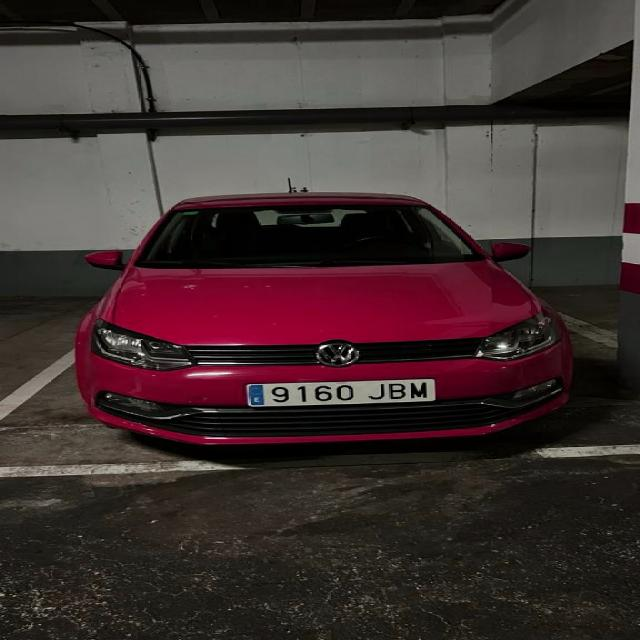License-Plate: (246, 378, 439, 410)
